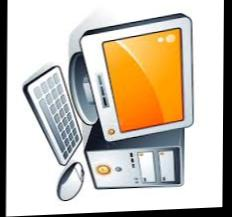keyboard: (22, 63, 81, 165)
monitor: (76, 9, 195, 141)
mouse: (51, 161, 84, 205)
pc: (85, 140, 190, 198)
